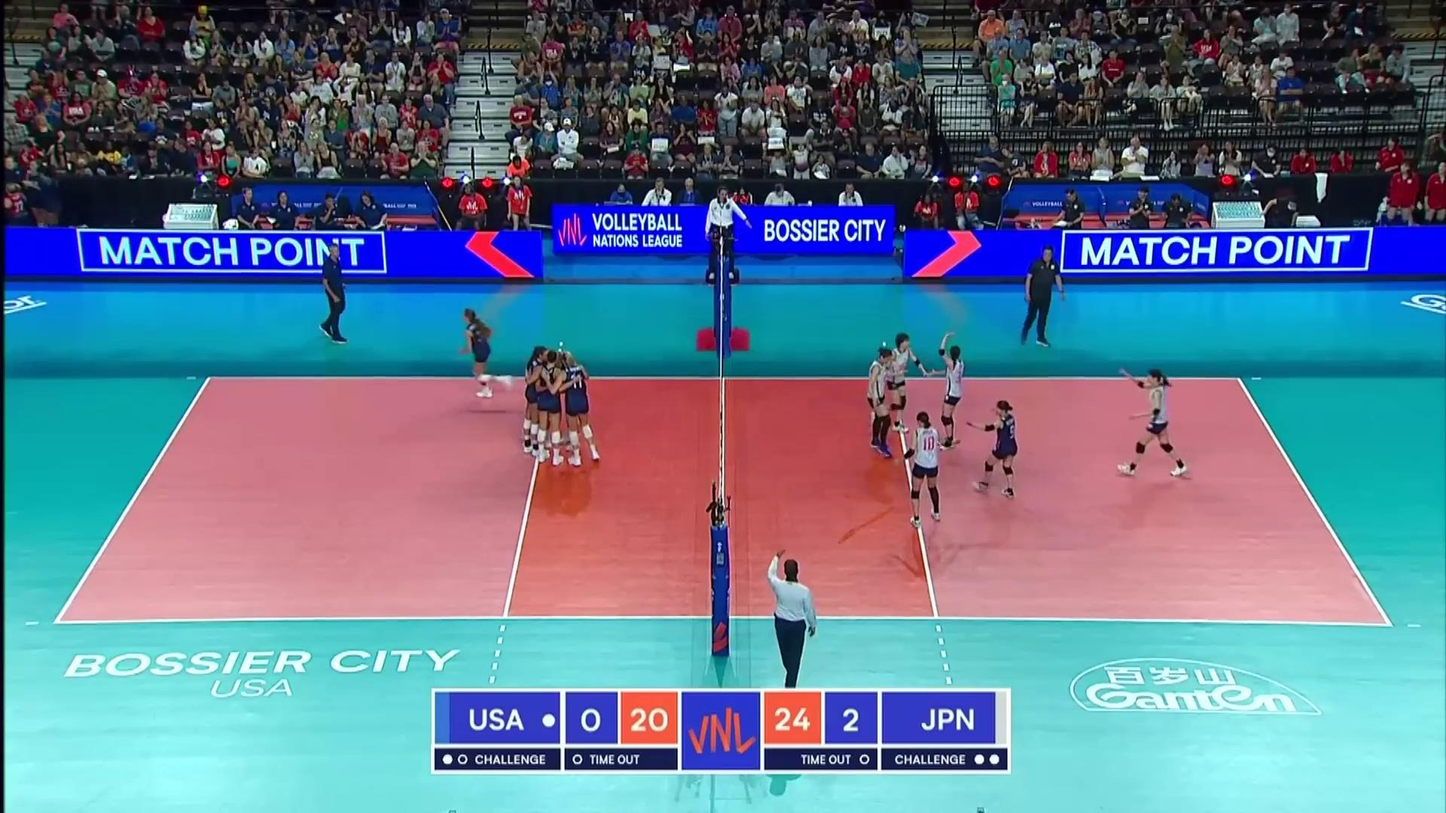player: (1113, 368, 1188, 477), (898, 412, 956, 528), (969, 401, 1019, 498), (560, 352, 600, 467), (462, 309, 511, 396), (886, 333, 926, 433), (867, 346, 901, 457), (935, 334, 966, 449), (536, 352, 564, 466), (524, 346, 549, 455)
refree: (766, 546, 817, 695), (706, 188, 751, 279)
